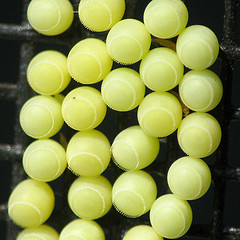tennis ball: (113, 123, 162, 176), (9, 177, 57, 227), (113, 171, 159, 222), (166, 156, 215, 202), (26, 48, 71, 96), (176, 24, 221, 72), (62, 85, 106, 134), (65, 130, 112, 175), (176, 113, 224, 157), (106, 19, 151, 65), (101, 68, 147, 113), (69, 38, 113, 85), (138, 91, 182, 138), (139, 48, 184, 93), (66, 177, 112, 219), (19, 96, 63, 139), (22, 139, 66, 182), (150, 195, 194, 238), (179, 69, 222, 112), (25, 1, 73, 37), (144, 1, 189, 39), (78, 1, 125, 33), (59, 218, 106, 240), (121, 223, 162, 240), (16, 225, 57, 240)
